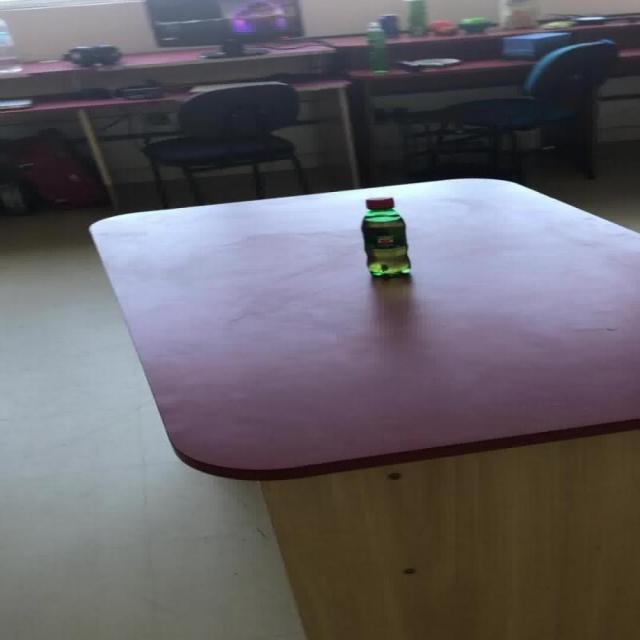Guarana: (358, 196, 411, 276)
